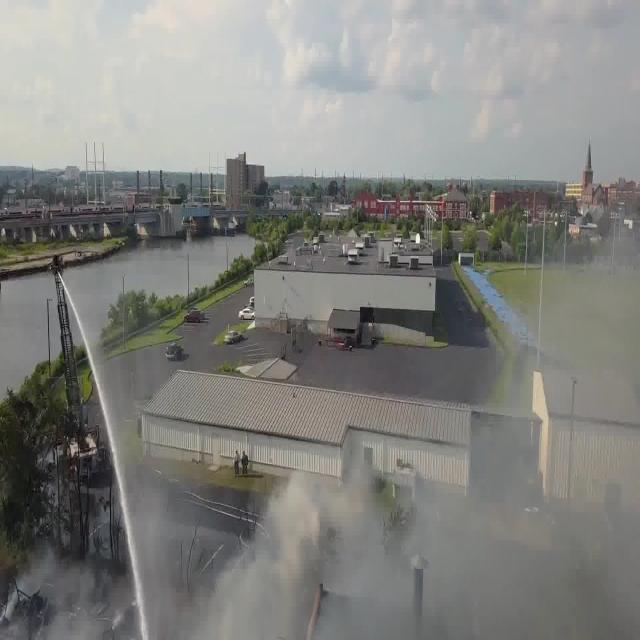Smoke: (171, 455, 640, 640)
